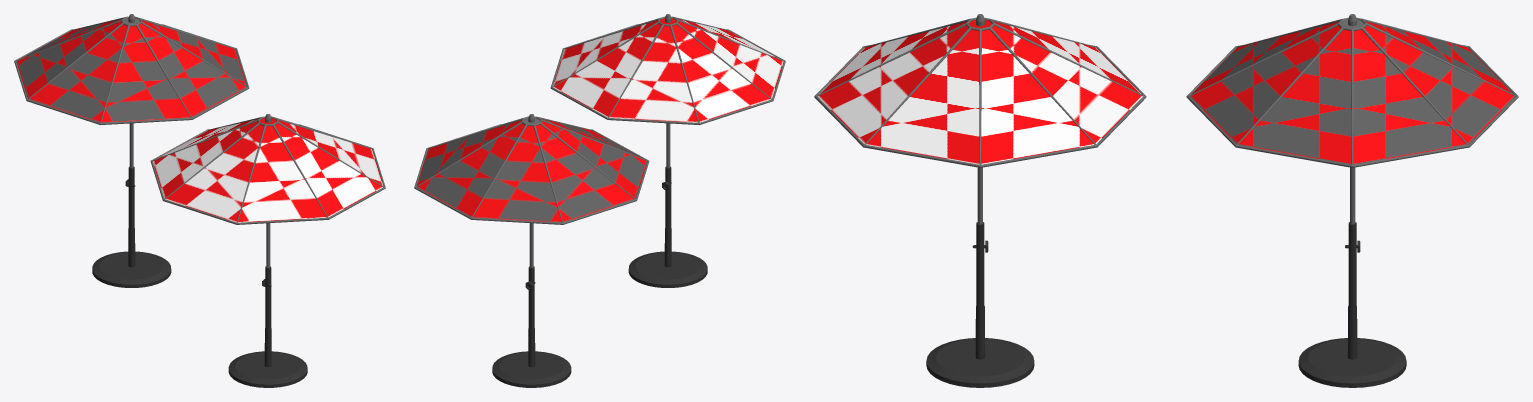
File: suncobran.obj
3 views of the same model, side by side, from view 1: azimuth 30°, elevation 25°; view 2: azimuth 150°, elevation 25°; view 3: azimuth 270°, elevation 25° (orthographic). The views are drawn at different scales.
Visible parts, largest first — view 1: Circle.012, Circle.018, Circle.016, Circle.022, Circle.020, Circle.014; view 2: Circle.012, Circle.018, Circle.022, Circle.016, Circle.014, Circle.020; view 3: Circle.012, Circle.018, Circle.016, Circle.022, Circle.014, Circle.020.
Boxes of the visible parts, left/top/right/bottom form: Circle.012: left=153, top=118, right=383, bottom=222; Circle.018: left=16, top=19, right=246, bottom=122; Circle.016: left=228, top=266, right=307, bottom=387; Circle.022: left=92, top=166, right=171, bottom=287; Circle.020: left=14, top=16, right=249, bottom=125; Circle.014: left=150, top=116, right=385, bottom=224; Circle.012: left=553, top=18, right=783, bottom=122; Circle.018: left=416, top=119, right=646, bottom=222; Circle.022: left=492, top=266, right=571, bottom=387; Circle.016: left=628, top=166, right=707, bottom=287; Circle.014: left=550, top=16, right=785, bottom=125; Circle.020: left=414, top=116, right=649, bottom=224; Circle.012: left=818, top=20, right=1142, bottom=164; Circle.018: left=1190, top=21, right=1514, bottom=164; Circle.016: left=926, top=222, right=1034, bottom=387; Circle.022: left=1298, top=222, right=1406, bottom=387; Circle.014: left=814, top=17, right=1146, bottom=167; Circle.020: left=1186, top=17, right=1518, bottom=167.
Bounding box in the file's own units: 2.51 × 2.92 × 5.32.
